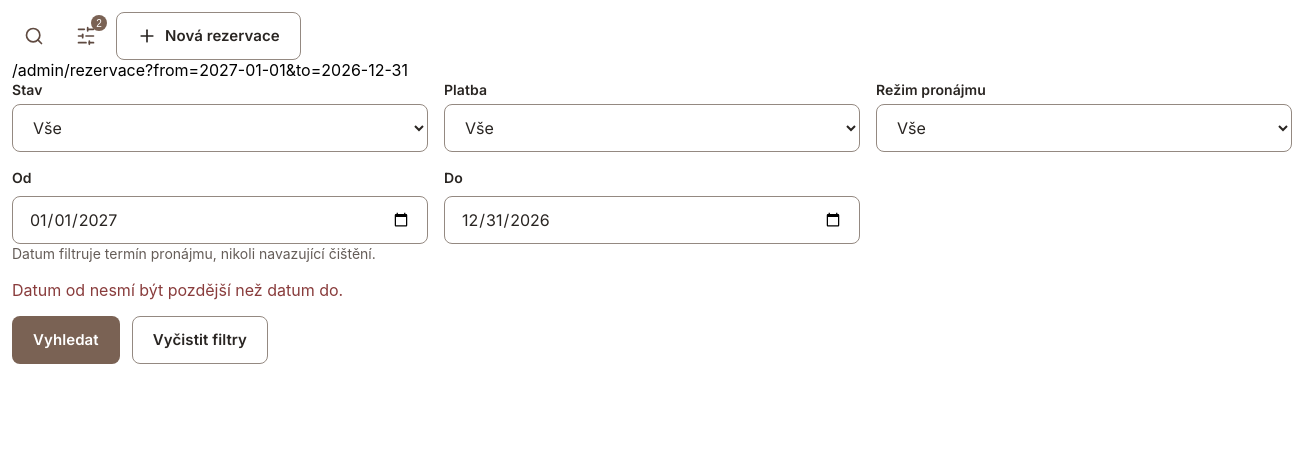
Test: initial inverted URL dates show validation without GET and correction recovers
Check: the field labelled "Hledat rezervaci" is not shown
Click the button named "Hledat rezervace" at (34, 36), box [12,14,56,58]
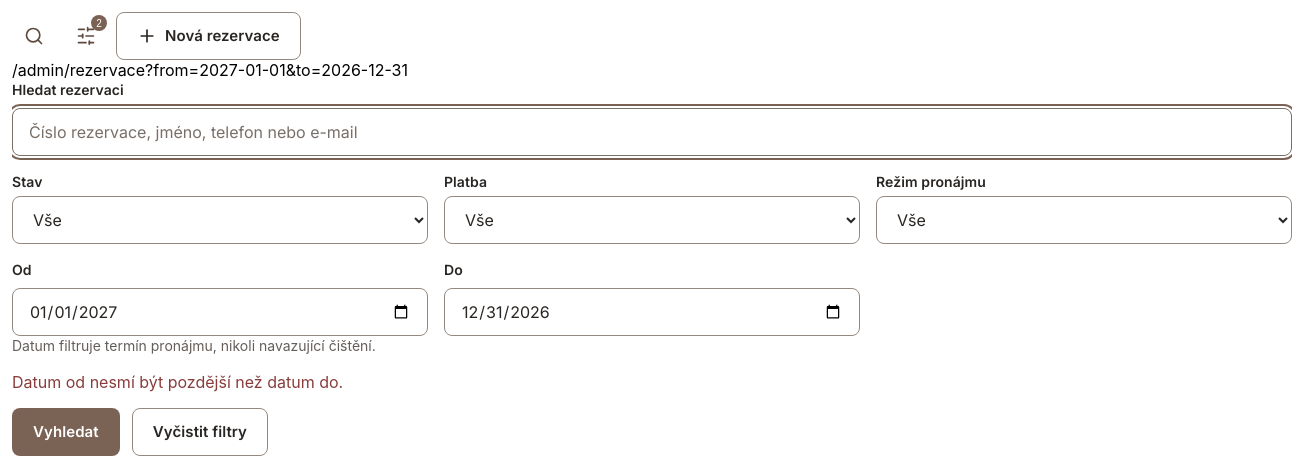
Click the button named "Filtry" at (86, 36), box [64,14,108,58]
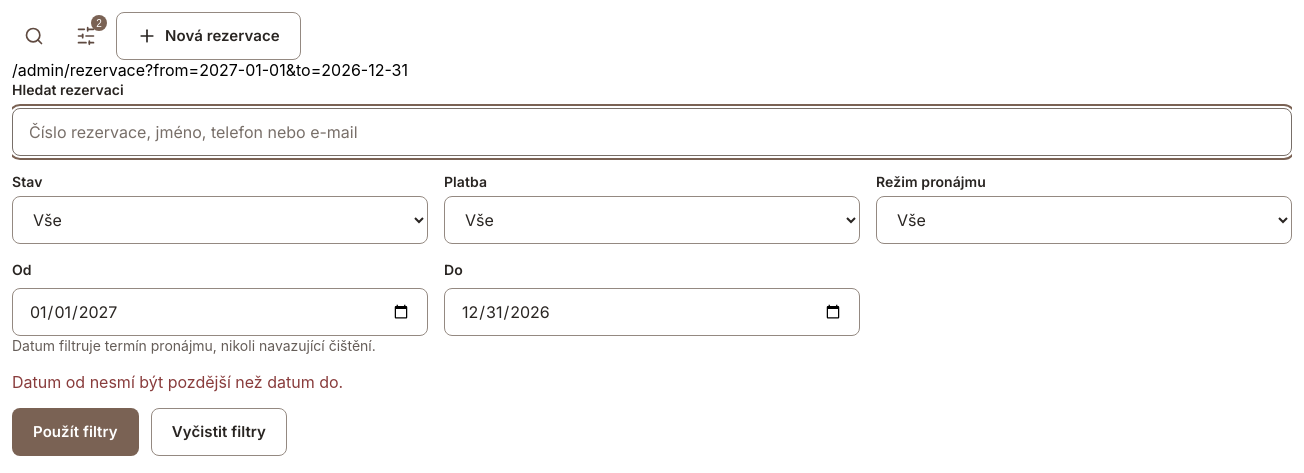
Check: the message reads "Datum od nesmí být pozdější než datum do.", box [12,372,343,392]
Type "2027-01-31" into the date field labelled "Do" at (652, 312), box [461,299,843,325]
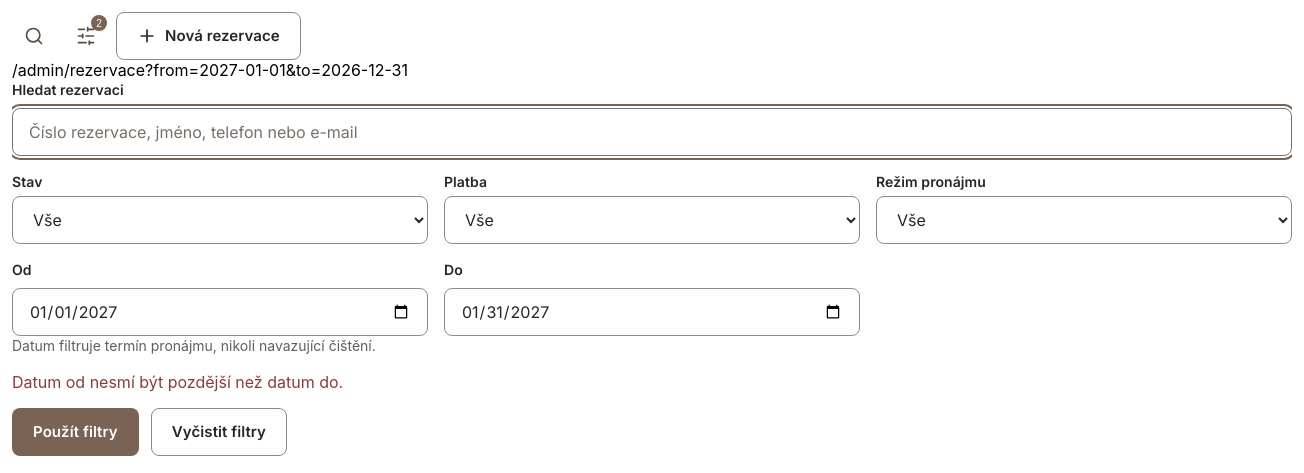
Click the button "Použít filtry" at (75, 432), box [12,408,139,456]
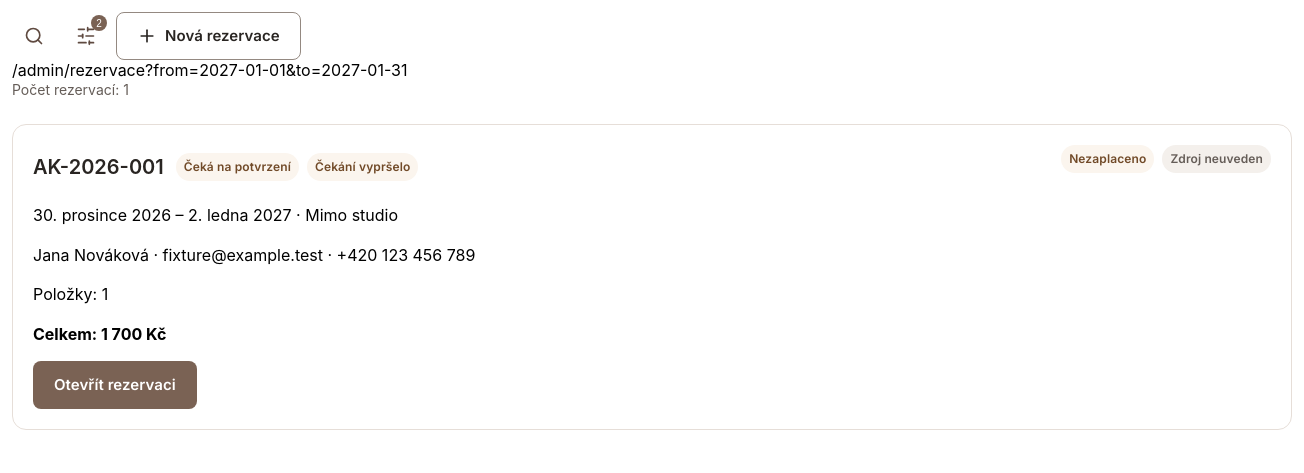
Check: the text "Počet rezervací: 1" is shown, box [12,81,129,98]
